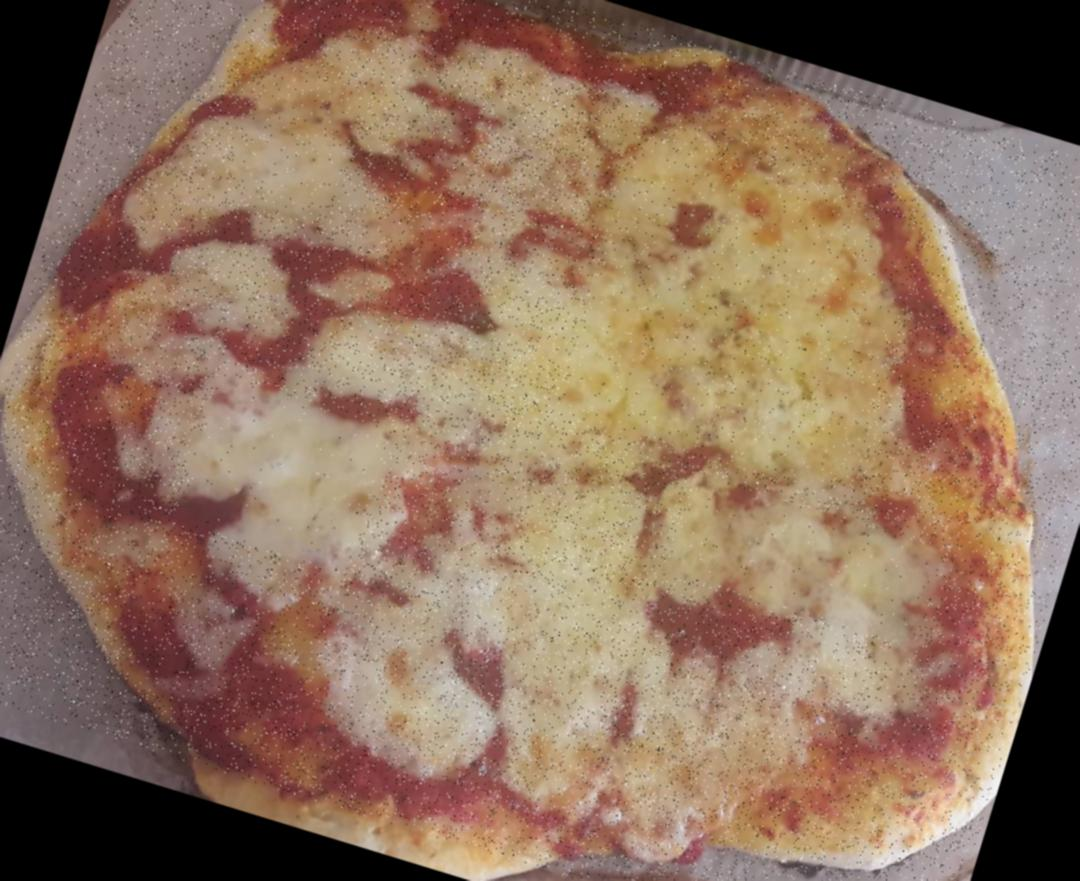Cheese: (560, 141, 923, 496), (441, 483, 673, 798), (668, 474, 943, 645), (177, 374, 390, 571), (357, 312, 564, 444), (459, 56, 610, 226), (638, 652, 794, 803), (230, 65, 363, 226)
Pizza: (0, 0, 1080, 881)
